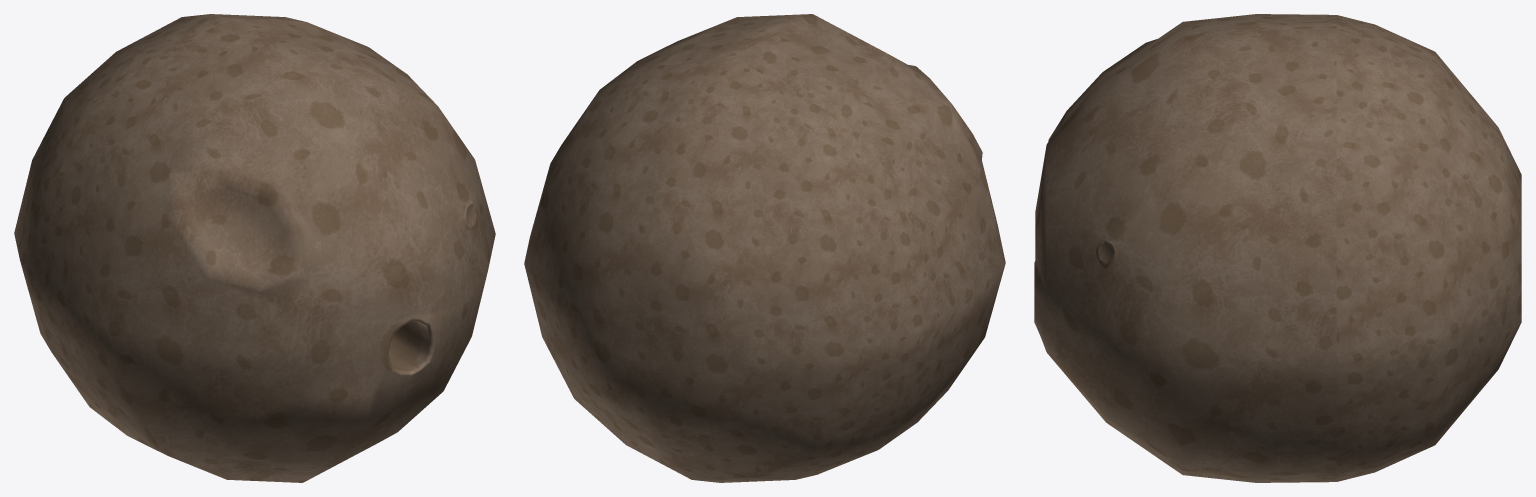
The model's file is Big Rock.fbx.
3 renders of one model, left to right at view 1: azimuth 30°, elevation 25°; view 2: azimuth 150°, elevation 25°; view 3: azimuth 270°, elevation 25°, orthographic. The views are drawn at different scales.
Parts seen in each view (by area): view 1: pCube2; view 2: pCube2; view 3: pCube2.
Part boxes in pixels (<box>): pCube2: <box>14,14,495,482</box>; pCube2: <box>524,14,1005,482</box>; pCube2: <box>1034,14,1521,482</box>.
Size of the model in its own units: 365 by 365 by 370.
Materials: 2 (2 with a texture image).
